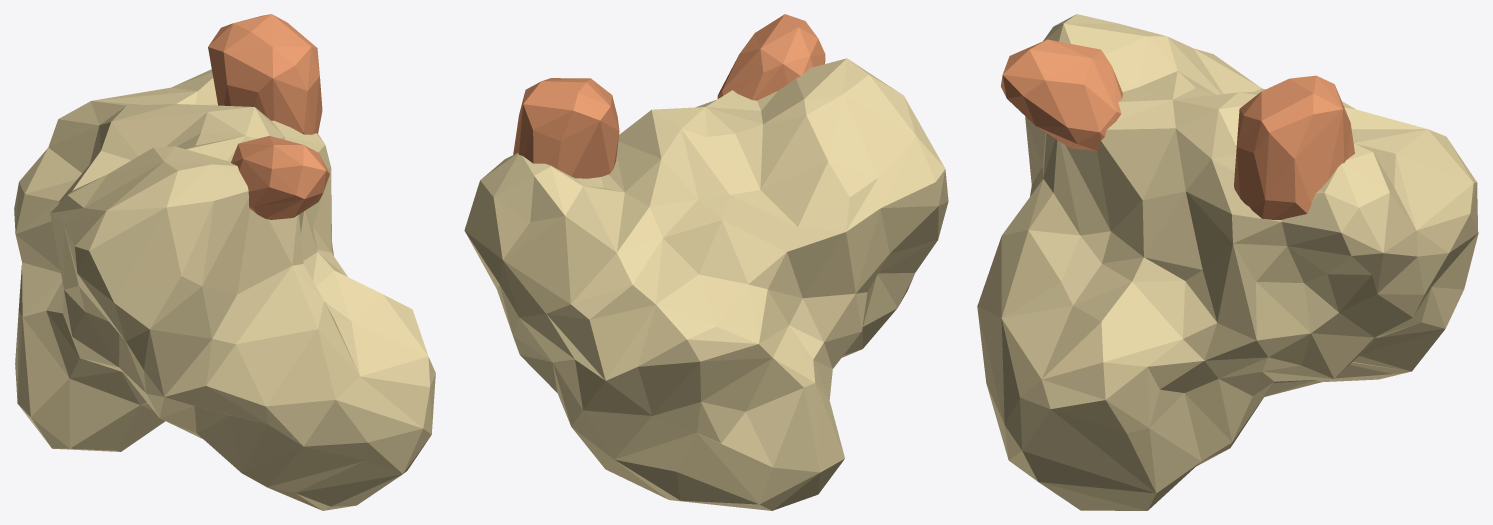
The model's file is StoneOre (37).fbx.
3 views of the same model, side by side, from view 1: azimuth 30°, elevation 25°; view 2: azimuth 150°, elevation 25°; view 3: azimuth 270°, elevation 25° (orthographic). The views are drawn at different scales.
Visible parts, largest first — view 1: Asteroid324; view 2: Asteroid324; view 3: Asteroid324.
Boxes of the visible parts, x1=… form: Asteroid324: x1=14, y1=14, x2=435, y2=510; Asteroid324: x1=464, y1=14, x2=948, y2=510; Asteroid324: x1=977, y1=14, x2=1478, y2=510.
Size of the model in its own units: 217 by 249 by 262.
